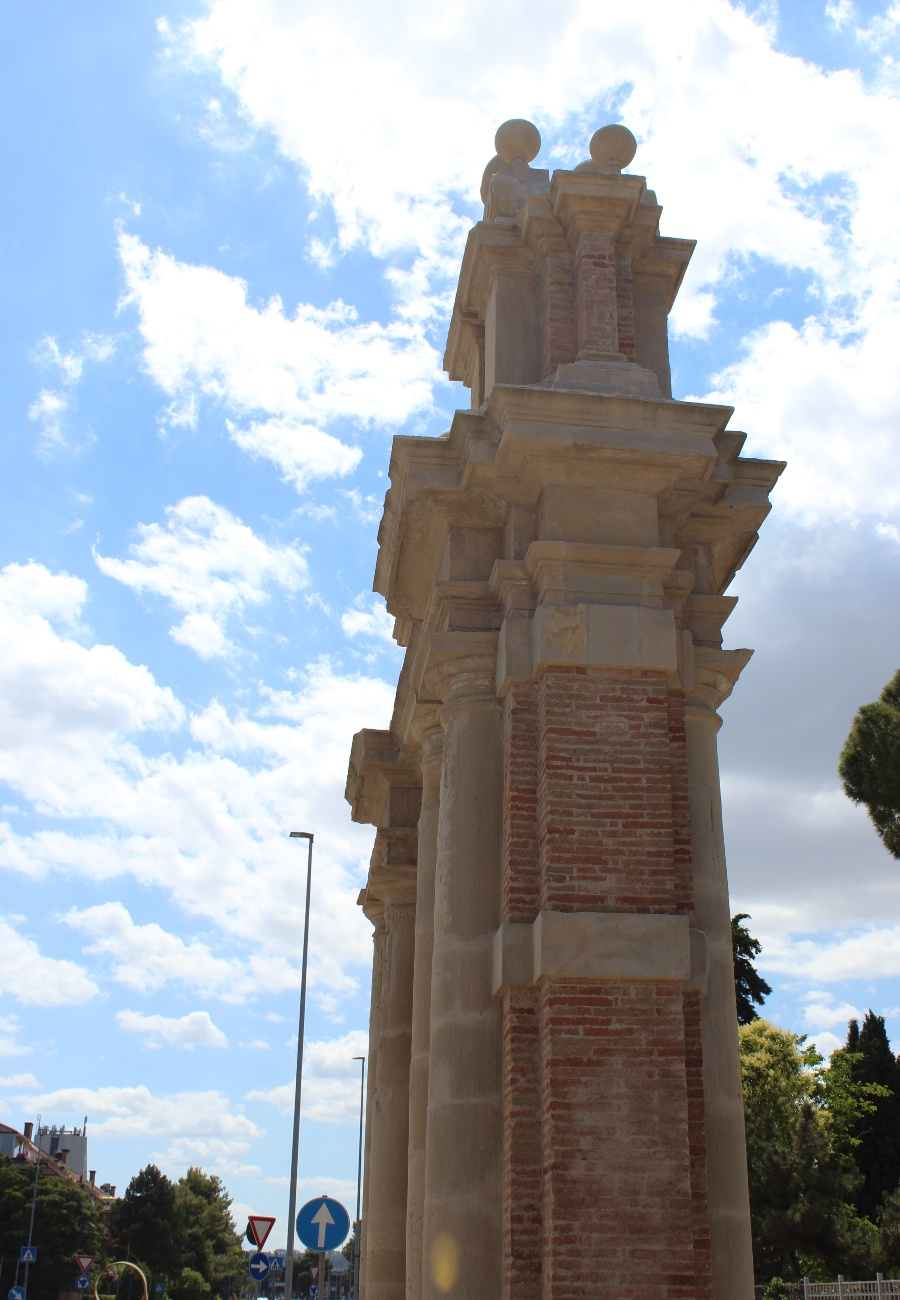Arco di Trionfo: (344, 117, 792, 1300)
